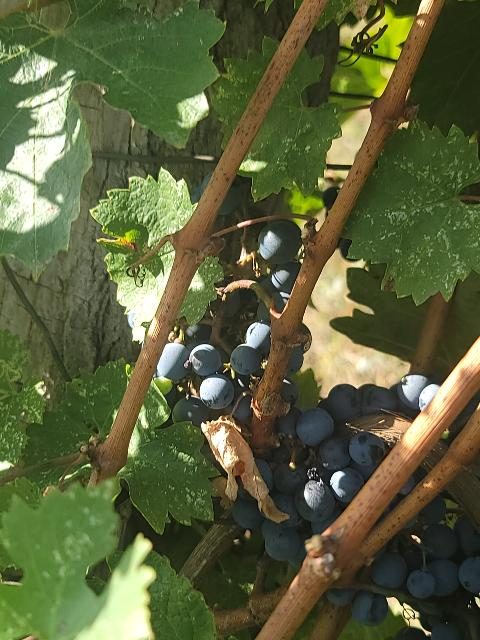grapes: (234, 375, 439, 569), (369, 495, 476, 625), (156, 320, 270, 428)
